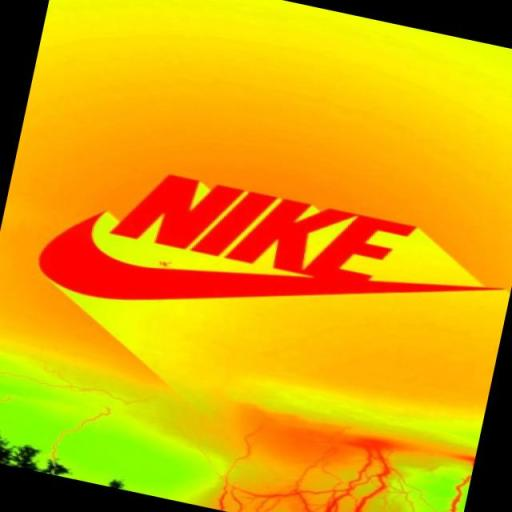Nike: (25, 187, 506, 385), (107, 160, 424, 302)
